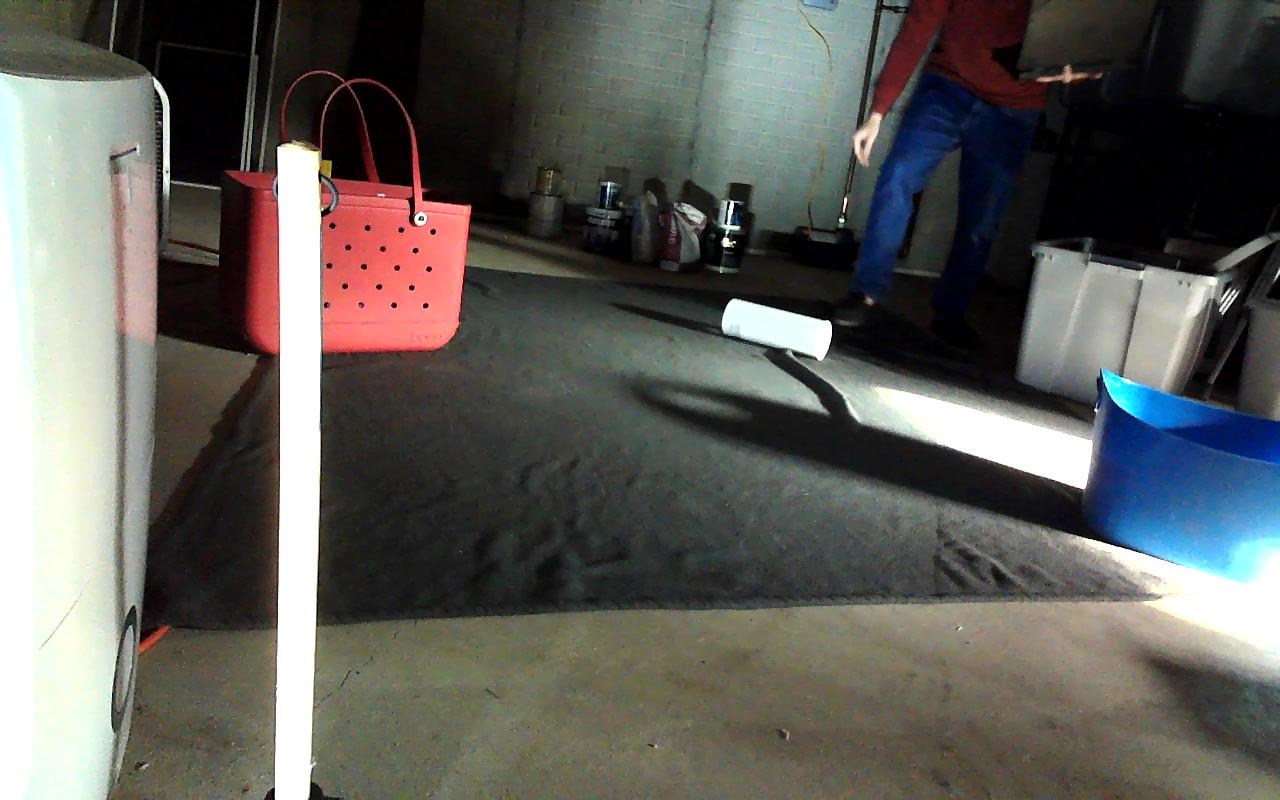coral: (721, 299, 831, 360)
